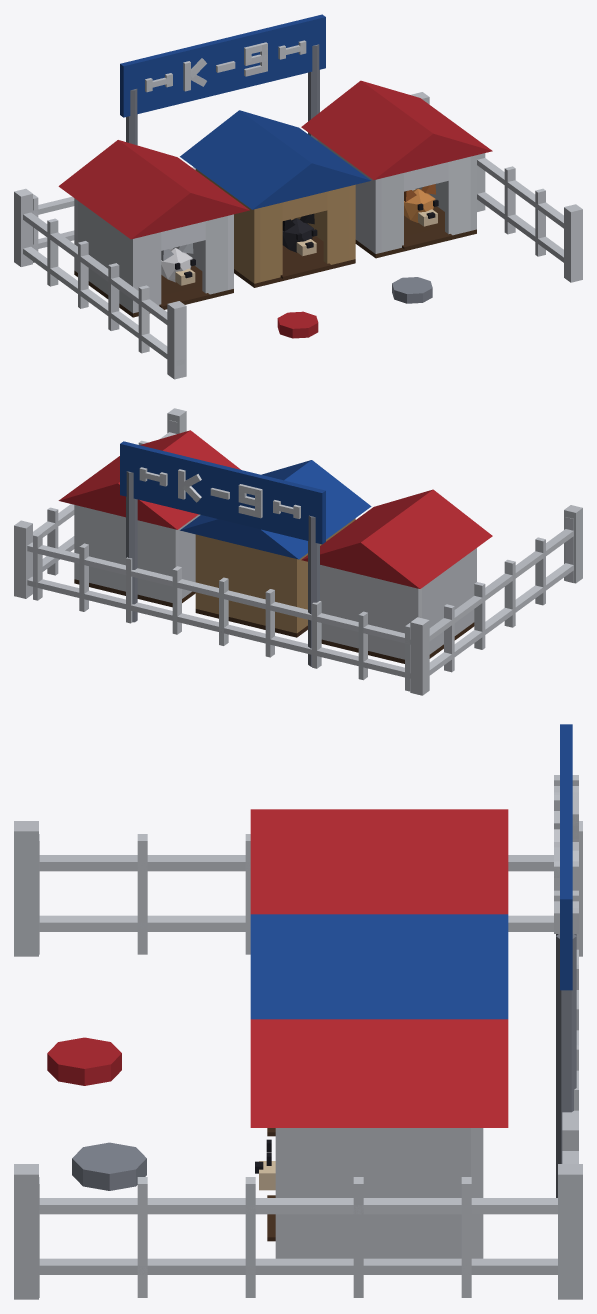
Rendered from Decor_PoliceStation_Kennel.fbx.
3 views of the same model, one above another, from view 1: azimuth 30°, elevation 25°; view 2: azimuth 150°, elevation 25°; view 3: azimuth 270°, elevation 25° (orthographic). The views are drawn at different scales.
Parts seen in each view (by area): view 1: Kennel_Body; view 2: Kennel_Body; view 3: Kennel_Body.
Part boxes in pixels (bbox=[...]): Kennel_Body: bbox=[14, 14, 582, 379]; Kennel_Body: bbox=[14, 408, 582, 695]; Kennel_Body: bbox=[14, 724, 582, 1299].
Size of the model in its own units: 20 by 8.2 by 13.6.
